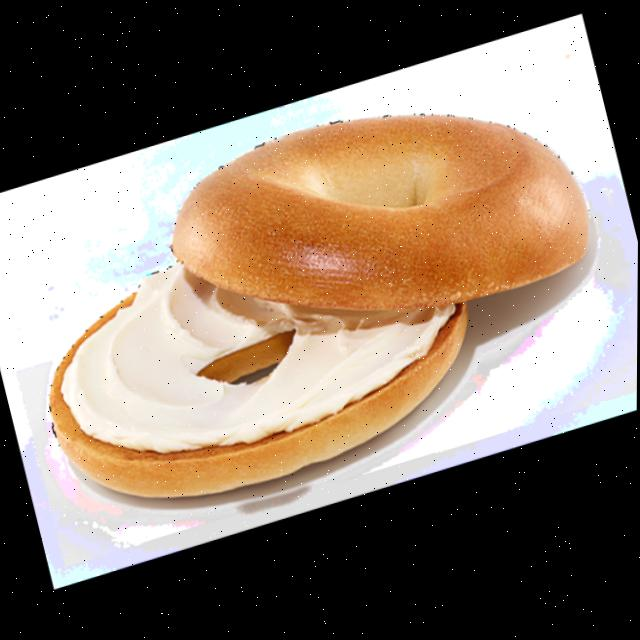Bagel: (173, 120, 587, 313)
